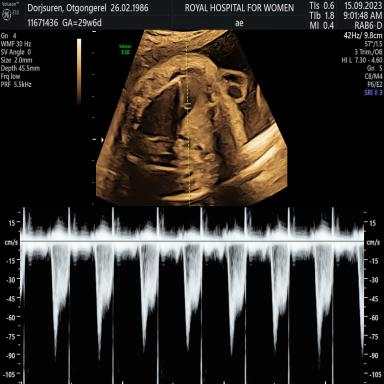Ultrasound-Waves: (30, 206, 360, 384)
